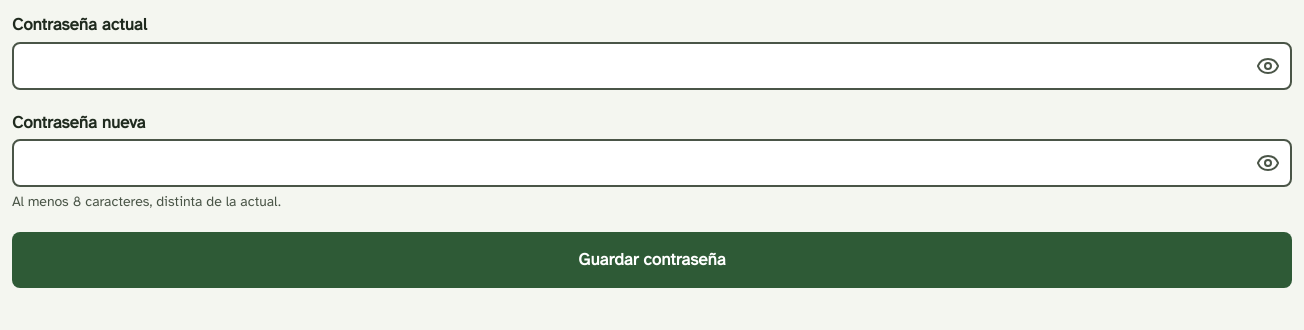
Test: ChangePasswordForm › exige el largo mínimo
Type "temporal-123" into the password field labelled "Contraseña actual".
click(652, 66); type("temporal-123")  # box x1=12 y1=42 x2=1292 y2=90
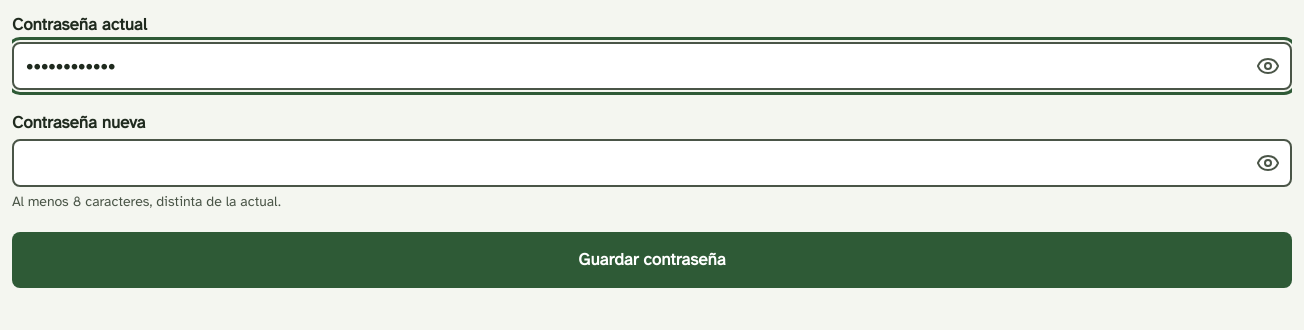
Type "corta" into the password field labelled "Contraseña nueva".
click(652, 163); type("corta")  # box x1=12 y1=139 x2=1292 y2=187
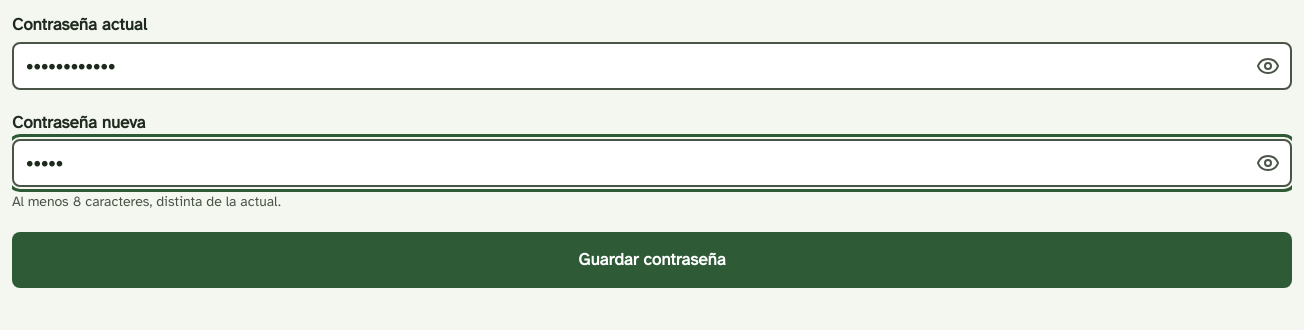
Click the button "Guardar contraseña".
click(652, 260)  # box x1=12 y1=232 x2=1292 y2=288
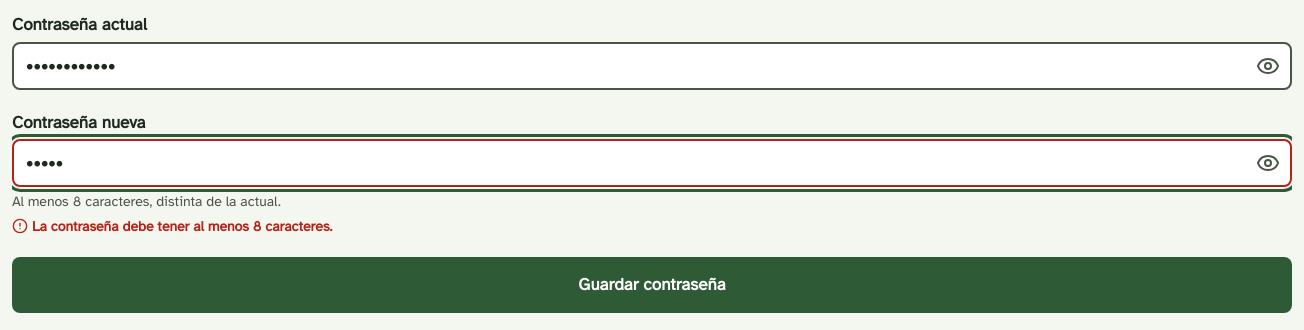
Check: the text "La contraseña debe tener al menos 8 caracteres." is shown, box x1=12 y1=218 x2=332 y2=235
